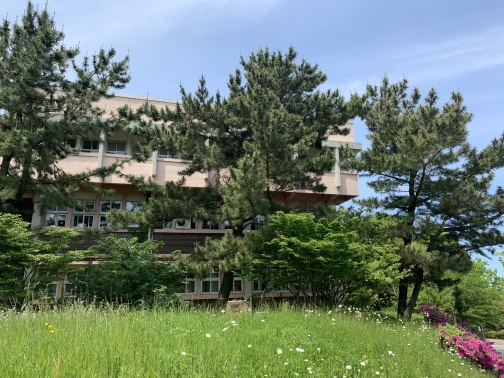College Of Education: (15, 75, 366, 310)
